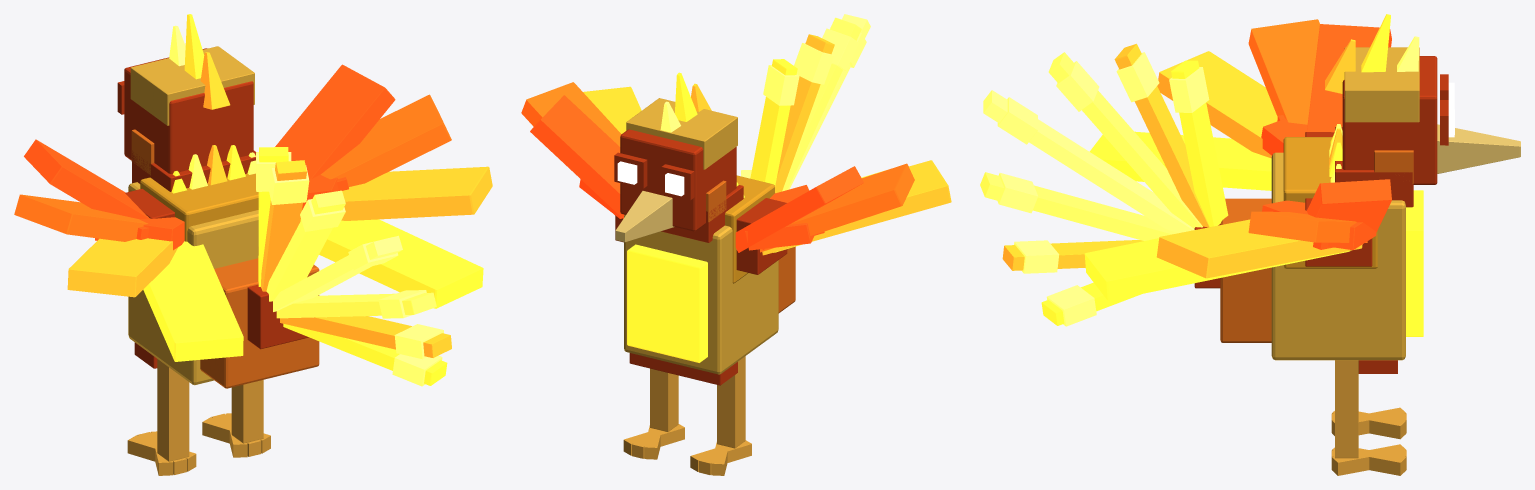
File: phoenix.glb
The picture shows the model from 3 angles, left to right: view 1: azimuth 30°, elevation 25°; view 2: azimuth 150°, elevation 25°; view 3: azimuth 270°, elevation 25°; orthographic projection. The views are drawn at different scales.
Visible parts, largest first — view 1: wing.L, tail, wing.R, body, head, leg.FR, leg.FL; view 2: body, head, wing.R, tail, wing.L, leg.FR, leg.FL; view 3: tail, body, wing.L, wing.R, head, leg.FL, leg.FR.
Part boxes in pixels (bbox=[...]): wing.L: bbox=[275, 64, 492, 308]; tail: bbox=[247, 147, 451, 386]; wing.R: bbox=[14, 139, 243, 361]; body: bbox=[128, 145, 319, 388]; head: bbox=[117, 14, 254, 175]; leg.FR: bbox=[127, 359, 196, 475]; leg.FL: bbox=[202, 380, 270, 457]; body: bbox=[624, 175, 795, 385]; head: bbox=[614, 72, 737, 242]; wing.R: bbox=[735, 160, 951, 274]; tail: bbox=[741, 14, 870, 192]; wing.L: bbox=[521, 82, 641, 242]; leg.FR: bbox=[690, 356, 751, 475]; leg.FL: bbox=[623, 368, 684, 459]; tail: bbox=[980, 43, 1228, 326]; body: bbox=[1220, 124, 1423, 373]; wing.L: bbox=[1084, 179, 1391, 300]; wing.R: bbox=[1089, 19, 1391, 190]; head: bbox=[1325, 14, 1520, 184]; leg.FL: bbox=[1331, 360, 1406, 475]; leg.FR: bbox=[1331, 407, 1406, 439].
Bounding box in the file's own units: 1.04 × 1 × 1.13.
